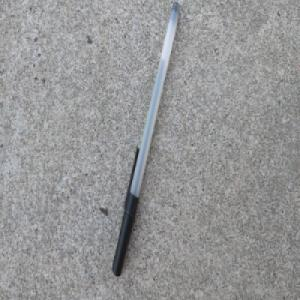Pen: (111, 1, 182, 278)
